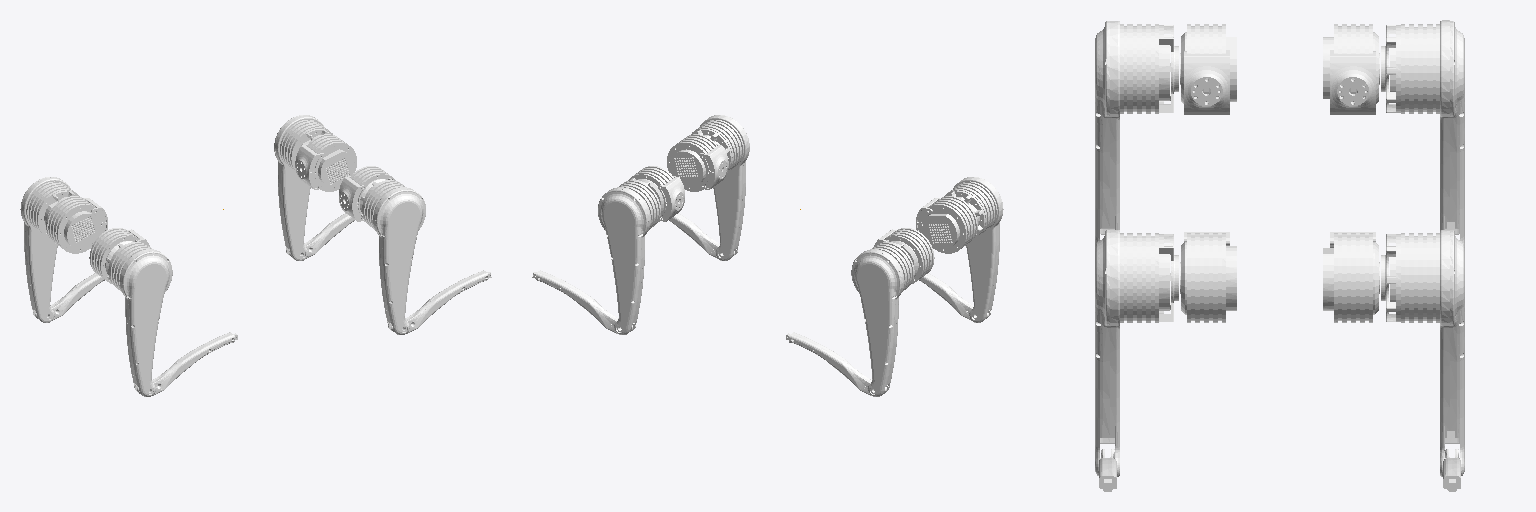
URDF robot description (jamal_description):
<?xml version="1.0" encoding="utf-8"?>
<!-- This URDF was automatically created by SolidWorks to URDF Exporter! Originally created by
Stephen Brawner (brawner@gmail.com) 
     Commit Version: 1.6.0-4-g7f85cfe  Build Version: 1.6.7995.38578
     For more information, please see http://wiki.ros.org/sw_urdf_exporter -->
<robot
  name="jamal_description">
  <material name="black">
    <color rgba="0.0 0.0 0.0 1.0"/>
  </material>
  <material name="blue">
    <color rgba="0.0 0.0 0.8 1.0"/>
  </material>
  <material name="green">
    <color rgba="0.0 0.8 0.0 1.0"/>
  </material>
  <material name="grey">
    <color rgba="0.2 0.2 0.2 1.0"/>
  </material>
  <material name="silver">
    <color rgba="0.913725490196 0.913725490196 0.847058823529 1.0"/>
  </material>
  <material name="orange">
    <!-- <color rgba="1.0 0.423529411765 0.0392156862745 1.0"/> -->
    <color rgba="0.12 0.15 0.2 1.0"/>
  </material>
  <material name="brown">
    <color rgba="0.870588235294 0.811764705882 0.764705882353 1.0"/>
  </material>
  <material name="red">
    <color rgba="0.8 0.0 0.0 1.0"/>
  </material>
  <material name="white">
    <color rgba="1.0 1.0 1.0 1.0"/>
  </material>
  <link name="base">
    <visual>
      <origin rpy="0 0 0" xyz="0 0 0"/>
      <geometry>
        <box size="0.001 0.001 0.001"/>
      </geometry>
    </visual>
  </link>
  <joint name="floating_base" type="fixed">
    <origin rpy="0 0 0" xyz="0 0 0"/>
    <parent link="base"/>
    <child link="trunk"/>
  </joint>
  <link
    name="trunk">
    <inertial>
    <origin rpy="0 0 0" xyz="0.0 0 0.0"/>
      <mass value="12.8185384756311"/>
      <inertia ixx="0.0565667940678376" ixy="-8.54731557026013e-06" ixz="3.411601276539e-05" iyy="0.0364645326398335" iyz="-4.86965244292946e-06" izz="0.0737588756462406"/>
    </inertial>
    <visual>
      <origin
        xyz="0 0 0"
        rpy="0 0 0" />
      <geometry>
        <mesh
          filename="../dae/base.dae" />
      </geometry>
      <material
        name="">
        <color
          rgba="1 1 1 1" />
      </material>
    </visual>
    <collision>
      <origin rpy="0 0 0" xyz="0 0 0" />
      <geometry>
        <box size="0.3762 0.2 0.114" />
      </geometry>
    </collision>
  </link>
  <link
    name="imu_link">
    <inertial>
      <mass value="0.001"/>
      <origin rpy="0 0 0" xyz="0 0 0"/>
      <inertia ixx="0.0001" ixy="0" ixz="0" iyy="0.0001" iyz="0" izz="0.0001"/>
    </inertial>
  </link>
  <joint
    name="imu_joint"
    type="fixed">
    <origin
      xyz="0 0 0" 
      rpy="0 0 0" />
      <!-- xyz="-0.02557 0 0.04232"   -->
    <parent
      link="trunk" />
    <child
      link="imu_link" />
    <axis
      xyz="0 0 0" />
  </joint>
  <link
    name="FR_hip">
    <inertial>
      <origin rpy="0 0 0" xyz="0.0 -0.0 0.0"/>
      <mass value="0.933762854916433"/>
      <inertia ixx="0.000832273911083319" ixy="-2.01742652907359e-06" ixz="-9.96248193966734e-07" iyy="0.00106512043176046" iyz="3.27660400510853e-06" izz="0.000803680416601427"/>
    </inertial>
    <visual>
      <origin
        xyz="0 0 0"
        rpy="3.1415 0 0" />
      <geometry>
        <mesh
          filename="../dae/hip.dae" />
      </geometry>
      <material
        name="">
        <color
          rgba="1 1 1 1" />
      </material>
    </visual>
    <collision>
      <origin rpy="1.5707963267948966 0 0" xyz="0 0 0"/>
      <geometry>
        <cylinder length="0.04" radius="0.046"/>
      </geometry>
    </collision>
  </link>
  <joint
    name="FR_hip_joint"
    type="revolute">
    <origin rpy="0 0 0" xyz="0.2699 -0.08028 0"/>
    <parent
      link="trunk" />
    <child
      link="FR_hip" />
    <axis
      xyz="1 0 0" />
    <dynamics damping="0" friction="0"/>
    <limit
      lower="-0.802851455917"
      upper="0.802851455917"
      effort="33.5"
      velocity="50" />
  </joint>
  <link
    name="FR_thigh">
    <inertial>
      <origin rpy="0 0 0" xyz="0.0 -0.0 0.0"/>
      <mass value="1.32134262348697"/>
      <inertia ixx="0.00262880898900224" ixy="-3.0753036678596e-07" ixz="-6.6121911239445e-05" iyy="0.00316091750463634" iyz="-4.01609105247509e-05" izz="0.00121962195056961"/>
    </inertial>
    <visual>
      <origin
        xyz="0 0 0"
        rpy="0 0 0" />
      <geometry>
        <mesh
          filename="../dae/thigh_mirror.dae" />
      </geometry>
      <material
        name="">
        <color
          rgba="1 1 1 1" />
      </material>
    </visual>
    <collision>
      <!-- <origin rpy="0 ${pi/2.0+0.1} 0" xyz="${thigh_x_offset} 0 ${-thigh_length/2.0}"/> -->
      <origin rpy="0 1.5707963267948966 0" xyz="0.0 0 -0.1125"/>
      <geometry>
        <box size="0.225 0.0245 0.034"/>
      </geometry>
    </collision>
    <collision>
      <origin rpy="1.5707963267948966 0 0" xyz="0 0.008 0"/>
      <geometry>
        <cylinder length="0.032" radius="0.041"/>
      </geometry>
    </collision>
  </link>
  <joint
    name="FR_thigh_joint"
    type="revolute">
    <origin rpy="0 0 0" xyz="0 -0.10755 0"/>
    <parent
      link="FR_hip" />
    <child
      link="FR_thigh" />
    <axis
      xyz="0 1 0" />
    <dynamics damping="0" friction="0"/>
    <limit
      lower="-1.0471975512"
      upper="4.18879020479"
      effort="33.5"
      velocity="28" />
  </joint>
  <link
    name="FR_calf">
    <inertial>
      <origin rpy="0 0 0" xyz="0.0 0.0 0.0"/>
      <mass value="0.12879265462489"/>
      <inertia ixx="0.000445341853265945" ixy="-7.71823686634482e-09" ixz="7.55836697902452e-05" iyy="0.000465686753688402" iyz="4.84096470394828e-09" izz="2.34278965180016e-05"/>
    </inertial>
    <visual>
      <origin
        xyz="0 0 0"
        rpy="0 0 0" />
      <geometry>
        <mesh
          filename="../dae/calf.dae" />
      </geometry>
      <material
        name="">
        <color
          rgba="1 1 1 1" />
      </material>
    </visual>
    <collision>
      <origin rpy="0 1.5707963267948966 0" xyz="0.0 0 -0.1175"/>
      <geometry>
        <box size="0.23 0.016 0.016"/>
      </geometry>
    </collision>
  </link>
  <joint
    name="FR_calf_joint"
    type="revolute">
    <origin rpy="0 0 0" xyz="0 0 -0.225"/>
    <parent
      link="FR_thigh" />
    <child
      link="FR_calf" />
    <axis
      xyz="0 1 0" />
    <dynamics damping="0" friction="0"/>
    <limit
      lower="-2.69653369433"
      upper="-0.916297857297"
      effort="33.5"
      velocity="28" />
  </joint>
  <link
    name="FR_foot">
    <inertial>
      <mass value="0.06"/>
      <inertia ixx="6.936000000000001e-06" ixy="0.0" ixz="0.0" iyy="6.936000000000001e-06" iyz="0.0" izz="6.936000000000001e-06"/>
    </inertial>
    <visual>
      <origin
        xyz="0 0 0"
        rpy="0 0 0" />
      <geometry>
        <mesh
          filename="../dae/foot.dae" />
      </geometry>
      <material
        name="">
        <color
          rgba="1 1 1 1" />
      </material>
    </visual>
    <collision>
      <origin rpy="0 0 0" xyz="0 0 0"/>
      <geometry>
        <sphere radius="0.02"/>
      </geometry>
    </collision>
  </link>
  <joint
    name="FR_foot_joint"
    type="fixed" dont_collapse="true">
    <origin rpy="0 0 0" xyz="0 0 -0.23"/>
    <parent
      link="FR_calf" />
    <child
      link="FR_foot" />
    <axis
      xyz="0 0 0" />
  </joint>
  <link
    name="FL_hip">
    <inertial>
      <origin rpy="0 0 0" xyz="0.0 0.0 0.0"/>
      <mass value="0.933762854916433"/>
      <inertia ixx="0.000832273911083319" ixy="2.01742652907359e-06" ixz="-9.96248193966734e-07" iyy="0.00106512043176046" iyz="-3.27660400510853e-06" izz="0.000803680416601427"/>
    </inertial>
    <visual>
      <origin
        xyz="0 0 0"
        rpy="0 0 0" />
      <geometry>
        <mesh
          filename="../dae/hip.dae" />
      </geometry>
      <material
        name="">
        <color
          rgba="1 1 1 1" />
      </material>
    </visual>
    <collision>
      <origin rpy="1.5707963267948966 0 0" xyz="0 0.0 0" />
      <geometry>
        <cylinder length="0.04" radius="0.046" />
      </geometry>
    </collision>
  </link>
  <joint
    name="FL_hip_joint"
    type="revolute">
    <origin
      rpy="0 0 0" xyz="0.2699 0.08028 0"/>
    <parent
      link="trunk" />
    <child
      link="FL_hip" />
    <axis
      xyz="1 0 0" />
    <dynamics damping="0" friction="0"/>
    <limit
      lower="-0.802851455917"
      upper="0.802851455917"
      effort="33.5"
      velocity="50" />
  </joint>
  <link
    name="FL_thigh">
    <inertial>
      <origin rpy="0 0 0" xyz="0.0 0.0 0.0"/>
      <mass value="1.32134262348697"/>
      <inertia ixx="0.00262880898900224" ixy="3.0753036678596e-07" ixz="-6.6121911239445e-05" iyy="0.00316091750463634" iyz="4.01609105247509e-05" izz="0.00121962195056961"/>
    </inertial>
    <visual>
      <origin
        xyz="0 0 0"
        rpy="0 0 0" />
      <geometry>
        <mesh
          filename="../dae/thigh.dae" />
      </geometry>
      <material
        name="">
        <color
          rgba="1 1 1 1" />
      </material>
    </visual>
    <collision>
      <!-- <origin rpy="0 ${pi/2.0+0.1} 0" xyz="${thigh_x_offset} 0 ${-thigh_length/2.0}"/> -->
      <origin rpy="0 1.5707963267948966 0" xyz="0.0 0 -0.1125"/>
      <geometry>
        <box size="0.225 0.0245 0.034"/>
      </geometry>
    </collision>
    <collision>
      <origin rpy="1.5707963267948966 0 0" xyz="0 -0.008 0"/>
      <geometry>
        <cylinder length="0.032" radius="0.041"/>
      </geometry>
    </collision>
  </link>
  <joint
    name="FL_thigh_joint"
    type="revolute">
    <origin
      xyz="0 0.10755 0"
      rpy="0 0 0" />
    <parent
      link="FL_hip" />
    <child
      link="FL_thigh" />
    <axis
      xyz="0 1 0" />
    <dynamics damping="0" friction="0"/>
    <limit
      lower="-1.0471975512"
      upper="4.18879020479"
      effort="33.5"
      velocity="28" />
  </joint>
  <link
    name="FL_calf">
    <inertial>
      <origin rpy="0 0 0" xyz="0.0 0.0 0.0"/>
      <mass value="0.12879265462489"/>
      <inertia ixx="0.000445341853265945" ixy="-7.71823686634482e-09" ixz="7.55836697902452e-05" iyy="0.000465686753688402" iyz="4.84096470394828e-09" izz="2.34278965180016e-05"/>
    </inertial>
    <visual>
      <origin
        xyz="0 0 0"
        rpy="0 0 0" />
      <geometry>
        <mesh
          filename="../dae/calf.dae" />
      </geometry>
      <material
        name="">
        <color
          rgba="1 1 1 1" />
      </material>
    </visual>
    <collision>
      <origin rpy="0 1.5707963267948966 0" xyz="0.0 0 -0.1175"/>
      <geometry>
        <box size="0.23 0.016 0.016"/>
      </geometry>
    </collision>
  </link>
  <joint
    name="FL_calf_joint"
    type="revolute">
    <origin
      xyz="0 0 -0.225"
      rpy="0 0 0" />
    <parent
      link="FL_thigh" />
    <child
      link="FL_calf" />
    <axis
      xyz="0 1 0" />
    <dynamics damping="0" friction="0"/>
    <limit
      lower="-2.69653369433"
      upper="-0.916297857297"
      effort="33.5"
      velocity="28" />
  </joint>
  <link
    name="FL_foot">
    <inertial>
      <mass value="0.06"/>
      <inertia ixx="6.936000000000001e-06" ixy="0.0" ixz="0.0" iyy="6.936000000000001e-06" iyz="0.0" izz="6.936000000000001e-06"/>
    </inertial>
    <visual>
      <origin
        xyz="0 0 0"
        rpy="0 0 0" />
      <geometry>
        <mesh
          filename="../dae/foot.dae" />
      </geometry>
      <material
        name="">
        <color
          rgba="1 1 1 1" />
      </material>
    </visual>
    <collision>
      <origin rpy="0 0 0" xyz="0 0 0" />
      <geometry>
        <sphere radius="0.022" />
      </geometry>
    </collision>
  </link>
  <joint
    name="FL_foot_joint"
    type="fixed" dont_collapse="true">
    <origin
      xyz="0 0 -0.23"
      rpy="0 0 0" />
    <parent
      link="FL_calf" />
    <child
      link="FL_foot" />
    <axis
      xyz="0 0 0" />
  </joint>
  <link
    name="RR_hip">
    <inertial>
      <origin rpy="0 0 0" xyz="-0.0 -0.0 0.0"/>
      <mass value="0.933762854916433"/>
      <inertia ixx="0.000832273911083319" ixy="2.01742652907359e-06" ixz="9.96248193966734e-07" iyy="0.00106512043176046" iyz="3.27660400510853e-06" izz="0.000803680416601427"/>
    </inertial>
    <visual>
      <origin
        xyz="0 0 0"
        rpy="3.1415 3.1415 0" />
      <geometry>
        <mesh
          filename="../dae/hip.dae" />
      </geometry>
      <material
        name="">
        <color
          rgba="1 1 1 1" />
      </material>
    </visual>
    <collision>
      <origin rpy="1.5707963267948966 0 0" xyz="0 0 0"/>
      <geometry>
        <cylinder length="0.04" radius="0.046"/>
      </geometry>
    </collision>
  </link>
  <joint
    name="RR_hip_joint"
    type="revolute">
    <origin rpy="0 0 0" xyz="-0.2699 -0.08028 0"/>
    <parent
      link="trunk" />
    <child
      link="RR_hip" />
    <axis
      xyz="1 0 0" />
    <dynamics damping="0" friction="0"/>
    <limit
      lower="-0.802851455917"
      upper="0.802851455917"
      effort="33.5"
      velocity="50" />
  </joint>
  <link
    name="RR_thigh">
    <inertial>
      <origin rpy="0 0 0" xyz="0.0 -0.0 0.0"/>
      <mass value="1.32134262348697"/>
      <inertia ixx="0.00262880898900224" ixy="-3.0753036678596e-07" ixz="-6.6121911239445e-05" iyy="0.00316091750463634" iyz="-4.01609105247509e-05" izz="0.00121962195056961"/>
    </inertial>
    <visual>
      <origin
        xyz="0 0 0"
        rpy="0 0 0" />
      <geometry>
        <mesh
          filename="../dae/thigh_mirror.dae" />
      </geometry>
      <material
        name="">
        <color
          rgba="1 1 1 1" />
      </material>
    </visual>
    <collision>
      <!-- <origin rpy="0 ${pi/2.0+0.1} 0" xyz="${thigh_x_offset} 0 ${-thigh_length/2.0}"/> -->
      <origin rpy="0 1.5707963267948966 0" xyz="0.0 0 -0.1125"/>
      <geometry>
        <box size="0.225 0.0245 0.034"/>
      </geometry>
    </collision>
    <collision>
      <origin rpy="1.5707963267948966 0 0" xyz="0 0.008 0"/>
      <geometry>
        <cylinder length="0.032" radius="0.041"/>
      </geometry>
    </collision>
  </link>
  <joint
    name="RR_thigh_joint"
    type="revolute">
    <origin rpy="0 0 0" xyz="0 -0.10755 0"/>
    <parent
      link="RR_hip" />
    <child
      link="RR_thigh" />
    <axis
      xyz="0 1 0" />
    <dynamics damping="0" friction="0"/>
    <limit
      lower="-1.0471975512"
      upper="4.18879020479"
      effort="33.5"
      velocity="28" />
  </joint>
  <link
    name="RR_calf">
    <inertial>
      <origin rpy="0 0 0" xyz="0.0 0.0 0.0"/>
      <mass value="0.12879265462489"/>
      <inertia ixx="0.000445341853265945" ixy="-7.71823686634482e-09" ixz="7.55836697902452e-05" iyy="0.000465686753688402" iyz="4.84096470394828e-09" izz="2.34278965180016e-05"/>
    </inertial>
    <visual>
      <origin
        xyz="0 0 0"
        rpy="0 0 0" />
      <geometry>
        <mesh
          filename="../dae/calf.dae" />
      </geometry>
      <material
        name="">
        <color
          rgba="1 1 1 1" />
      </material>
    </visual>
    <collision>
      <origin rpy="0 1.5707963267948966 0" xyz="0.0 0 -0.1175"/>
      <geometry>
        <box size="0.23 0.016 0.016"/>
      </geometry>
    </collision>
  </link>
  <joint
    name="RR_calf_joint"
    type="revolute">
    <origin rpy="0 0 0" xyz="0 0 -0.225"/>
    <parent
      link="RR_thigh" />
    <child
      link="RR_calf" />
    <axis
      xyz="0 1 0" />
    <dynamics damping="0" friction="0"/>
    <limit
      lower="-2.69653369433"
      upper="-0.916297857297"
      effort="33.5"
      velocity="28" />
  </joint>
  <link
    name="RR_foot">
    <inertial>
      <mass value="0.06"/>
      <inertia ixx="6.936000000000001e-06" ixy="0.0" ixz="0.0" iyy="6.936000000000001e-06" iyz="0.0" izz="6.936000000000001e-06"/>
    </inertial>
    <visual>
      <origin
        xyz="0 0 0"
        rpy="0 0 0" />
      <geometry>
        <mesh
          filename="../dae/foot.dae" />
      </geometry>
      <material
        name="">
        <color
          rgba="1 1 1 1" />
      </material>
    </visual>
    <collision>
      <origin rpy="0 0 0" xyz="0 0 0"/>
      <geometry>
        <sphere radius="0.02"/>
      </geometry>
    </collision>
  </link>
  <joint
    name="RR_foot_joint"
    type="fixed" dont_collapse="true">
    <origin rpy="0 0 0" xyz="0 0 -0.23"/>
    <parent
      link="RR_calf" />
    <child
      link="RR_foot" />
    <axis
      xyz="0 0 0" />
  </joint>
  <link
    name="RL_hip">
    <inertial>
      <origin rpy="0 0 0" xyz="-0.0 0.0 0.0"/>
      <mass value="0.933762854916433"/>
      <inertia ixx="0.000832273911083319" ixy="-2.01742652907359e-06" ixz="9.96248193966734e-07" iyy="0.00106512043176046" iyz="-3.27660400510853e-06" izz="0.000803680416601427"/>
    </inertial>
    <visual>
      <origin
        xyz="0 0 0"
        rpy="0 3.1415 0" />
      <geometry>
        <mesh
          filename="../dae/hip.dae" />
      </geometry>
      <material
        name="">
        <color
          rgba="1 1 1 1" />
      </material>
    </visual>
    <collision>
      <origin rpy="1.5707963267948966 0 0" xyz="0 0 0"/>
      <geometry>
        <cylinder length="0.04" radius="0.046"/>
      </geometry>
    </collision>
  </link>
  <joint
    name="RL_hip_joint"
    type="revolute">
    <origin rpy="0 0 0" xyz="-0.2699 0.08028 0"/>
    <parent
      link="trunk" />
    <child
      link="RL_hip" />
    <axis
      xyz="1 0 0" />
    <dynamics damping="0" friction="0"/>
    <limit
      lower="-0.802851455917"
      upper="0.802851455917"
      effort="33.5"
      velocity="50" />
  </joint>
  <link
    name="RL_thigh">
    <inertial>
      <origin rpy="0 0 0" xyz="0.0 0.0 0.0"/>
      <mass value="1.32134262348697"/>
      <inertia ixx="0.00262880898900224" ixy="3.0753036678596e-07" ixz="-6.6121911239445e-05" iyy="0.00316091750463634" iyz="4.01609105247509e-05" izz="0.00121962195056961"/>
    </inertial>
    <visual>
      <origin
        xyz="0 0 0"
        rpy="0 0 0" />
      <geometry>
        <mesh
          filename="../dae/thigh.dae" />
      </geometry>
      <material
        name="">
        <color
          rgba="1 1 1 1" />
      </material>
    </visual>
    <collision>
      <!-- <origin rpy="0 ${pi/2.0+0.1} 0" xyz="${thigh_x_offset} 0 ${-thigh_length/2.0}"/> -->
      <origin rpy="0 1.5707963267948966 0" xyz="0.0 0 -0.1125"/>
      <geometry>
        <box size="0.225 0.0245 0.034"/>
      </geometry>
    </collision>
    <collision>
      <origin rpy="1.5707963267948966 0 0" xyz="0 -0.008 0"/>
      <geometry>
        <cylinder length="0.032" radius="0.041"/>
      </geometry>
    </collision>
  </link>
  <joint
    name="RL_thigh_joint"
    type="revolute">
    <origin rpy="0 0 0" xyz="0 0.10755 0"/>
    <parent
      link="RL_hip" />
    <child
      link="RL_thigh" />
    <axis
      xyz="0 1 0" />
    <dynamics damping="0" friction="0"/>
    <limit
      lower="-1.0471975512"
      upper="4.18879020479"
      effort="33.5"
      velocity="28" />
  </joint>
  <link
    name="RL_calf">
    <inertial>
      <origin rpy="0 0 0" xyz="0.0 0.0 0.0"/>
      <mass value="0.12879265462489"/>
      <inertia ixx="0.000445341853265945" ixy="-7.71823686634482e-09" ixz="7.55836697902452e-05" iyy="0.000465686753688402" iyz="4.84096470394828e-09" izz="2.34278965180016e-05"/>
    </inertial>
    <visual>
      <origin
        xyz="0 0 0"
        rpy="0 0 0" />
      <geometry>
        <mesh
          filename="../dae/calf.dae" />
      </geometry>
      <material
        name="">
        <color
          rgba="1 1 1 1" />
      </material>
    </visual>
    <collision>
      <origin rpy="0 1.5707963267948966 0" xyz="0.0 0 -0.1175"/>
      <geometry>
        <box size="0.23 0.016 0.016"/>
      </geometry>
    </collision>
  </link>
  <joint
    name="RL_calf_joint"
    type="revolute">
    <origin rpy="0 0 0" xyz="0 0 -0.225"/>
    <parent
      link="RL_thigh" />
    <child
      link="RL_calf" />
    <axis
      xyz="0 1 0" />
    <dynamics damping="0" friction="0"/>
    <limit
      lower="-2.69653369433"
      upper="-0.916297857297"
      effort="33.5"
      velocity="28" />
  </joint>
  <link
    name="RL_foot">
    <inertial>
      <mass value="0.06"/>
      <inertia ixx="6.936000000000001e-06" ixy="0.0" ixz="0.0" iyy="6.936000000000001e-06" iyz="0.0" izz="6.936000000000001e-06"/>
    </inertial>
    <visual>
      <origin
        xyz="0 0 0"
        rpy="0 0 0" />
      <geometry>
        <mesh
          filename="../dae/foot.dae" />
      </geometry>
      <material
        name="">
        <color
          rgba="1 1 1 1" />
      </material>
    </visual>
    <collision>
      <origin rpy="0 0 0" xyz="0 0 0"/>
      <geometry>
        <sphere radius="0.02"/>
      </geometry>
    </collision>
  </link>
  <joint
    name="RL_foot_joint"
    type="fixed" dont_collapse="true">
    <origin rpy="0 0 0" xyz="0 0 -0.23"/>
    <parent
      link="RL_calf" />
    <child
      link="RL_foot" />
    <axis
      xyz="0 0 0" />
  </joint>
</robot>

--- Facts derived from the render (not from the file) ---
Views: 3 orthographic renders of the robot side by side, from view 1: azimuth 30°, elevation 25°; view 2: azimuth 150°, elevation 25°; view 3: azimuth 270°, elevation 25°.
Robot: jamal_description — 19 links, 18 joints (12 revolute, 6 fixed); root link base; default pose: joints at zero except 4 at the middle of their limits (FR_calf_joint = -1.81, FL_calf_joint = -1.81, RR_calf_joint = -1.81, RL_calf_joint = -1.81).
Links seen in each view (by area): view 1: RR_thigh, FR_thigh, RL_thigh, FL_thigh, RL_hip, FL_hip, FR_hip, RR_hip, FR_calf, RR_calf, RL_calf, FL_calf; view 2: RL_thigh, FL_thigh, RR_thigh, FR_thigh, RR_hip, FR_hip, FL_hip, RL_hip, FL_calf, RL_calf, RR_calf, FR_calf; view 3: FR_thigh, FL_thigh, RR_thigh, RL_thigh, FR_hip, RR_hip, FL_hip, RL_hip, FR_calf, FL_calf.
Link boxes in pixels (bbox=[...]): RR_thigh: bbox=[107, 240, 172, 396]; FR_thigh: bbox=[360, 178, 425, 334]; RL_thigh: bbox=[20, 177, 79, 322]; FL_thigh: bbox=[274, 115, 332, 260]; RL_hip: bbox=[46, 196, 107, 253]; FL_hip: bbox=[295, 134, 356, 191]; FR_hip: bbox=[339, 166, 395, 221]; RR_hip: bbox=[89, 228, 149, 283]; FR_calf: bbox=[388, 270, 491, 333]; RR_calf: bbox=[134, 332, 237, 395]; RL_calf: bbox=[33, 273, 104, 320]; FL_calf: bbox=[286, 213, 354, 258]; RL_thigh: bbox=[851, 240, 914, 396]; FL_thigh: bbox=[598, 178, 660, 334]; RR_thigh: bbox=[944, 177, 1003, 322]; FR_thigh: bbox=[691, 115, 749, 260]; RR_hip: bbox=[916, 196, 977, 253]; FR_hip: bbox=[667, 134, 728, 191]; FL_hip: bbox=[628, 166, 684, 221]; RL_hip: bbox=[874, 228, 934, 283]; FL_calf: bbox=[532, 270, 635, 333]; RL_calf: bbox=[786, 332, 888, 395]; RR_calf: bbox=[919, 273, 990, 320]; FR_calf: bbox=[669, 213, 737, 258]; FR_thigh: bbox=[1095, 230, 1178, 476]; FL_thigh: bbox=[1381, 230, 1464, 476]; RR_thigh: bbox=[1095, 21, 1178, 246]; RL_thigh: bbox=[1381, 20, 1464, 246]; FR_hip: bbox=[1180, 232, 1236, 322]; RR_hip: bbox=[1180, 24, 1236, 114]; FL_hip: bbox=[1323, 232, 1379, 322]; RL_hip: bbox=[1323, 24, 1379, 114]; FR_calf: bbox=[1099, 449, 1116, 491]; FL_calf: bbox=[1443, 449, 1460, 491].
Bounding box of the posed robot: 0.7829 × 0.4028 × 0.2921 m (x, y, z).
Meshes: 6 distinct files referenced, 12 mesh visuals loaded (4 Collada DAE); not drawn: 5 (reference not matched to a file when rendering).
